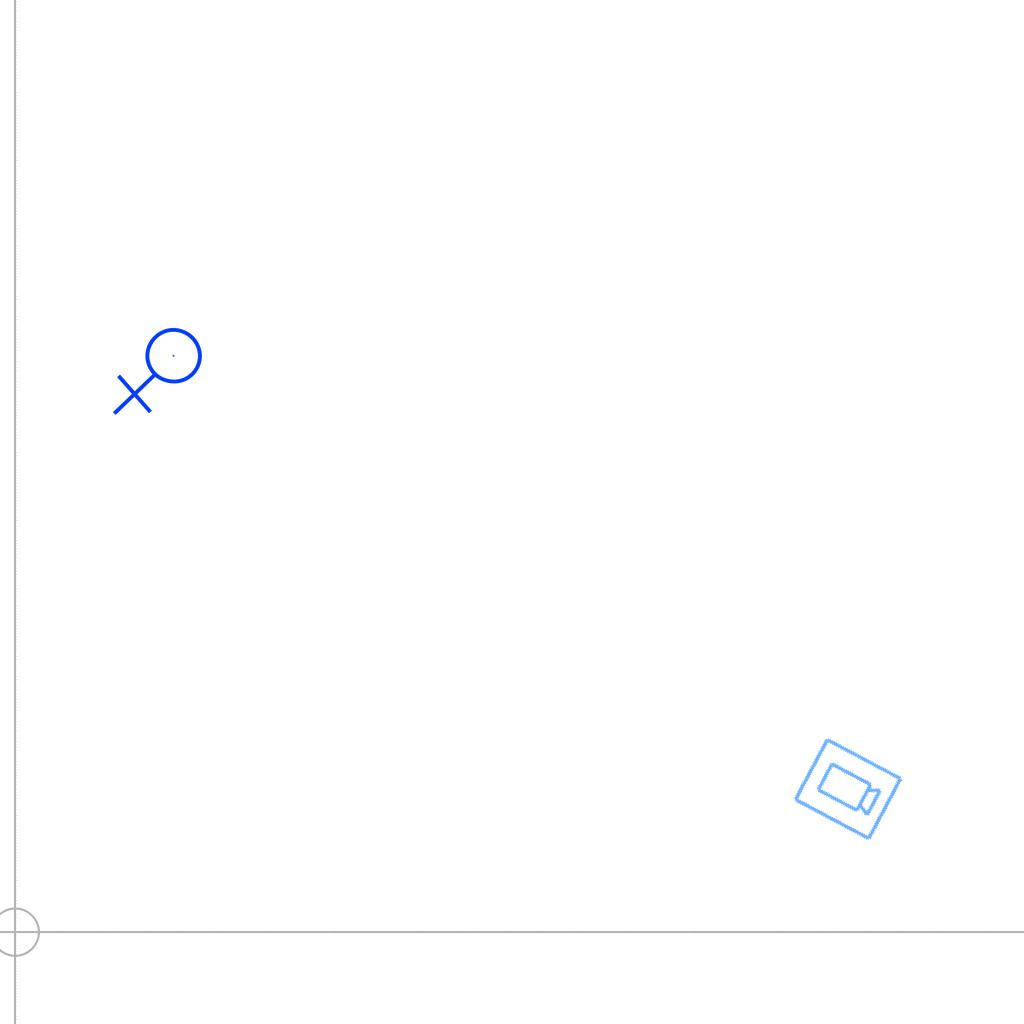Elektroanschluss_allgemein_230V_Geraeteanschlussdose_230V: (112, 326, 211, 420)
KFO_Kamera_mit_Festobjektiv: (789, 734, 906, 845)
